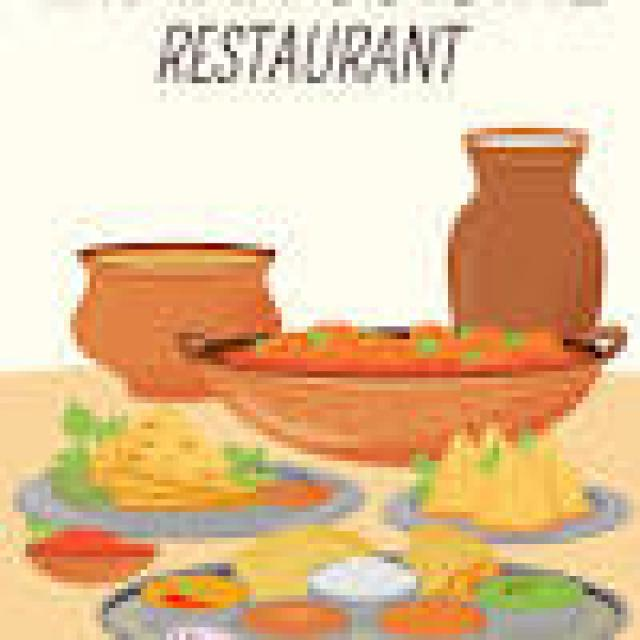dal: (128, 558, 251, 621), (376, 593, 493, 637)
sambar-rasam: (371, 594, 495, 638), (233, 597, 360, 638)
